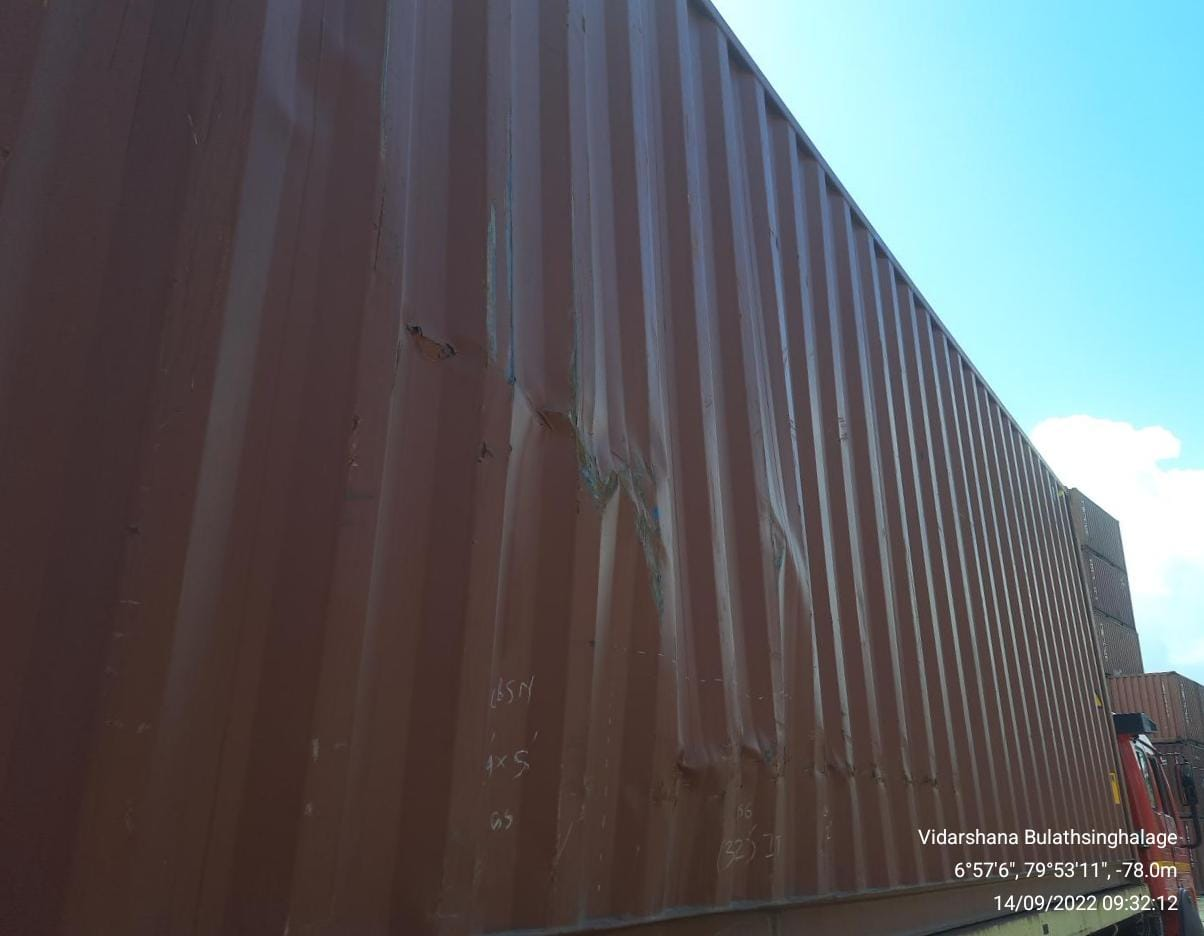dented: (528, 387, 705, 566), (638, 731, 952, 816), (747, 479, 840, 620), (401, 326, 465, 382)
